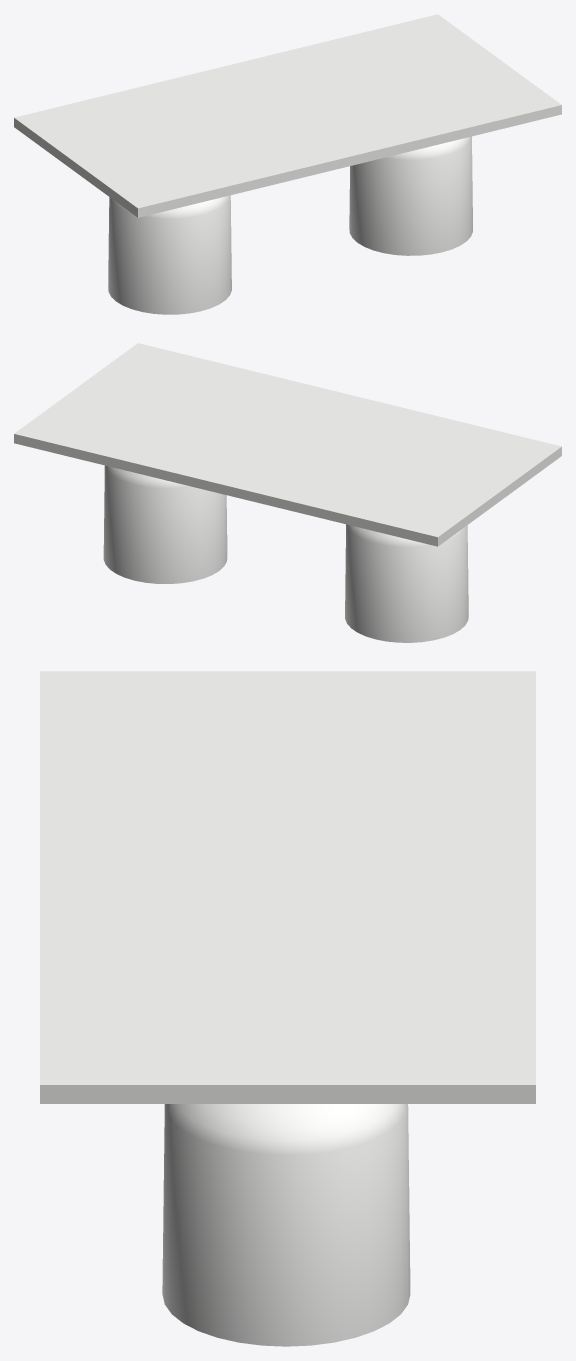
Rendered from purewhite_recta_standard_tornado.glb.
3 views of the same model, one above another, from view 1: azimuth 30°, elevation 25°; view 2: azimuth 150°, elevation 25°; view 3: azimuth 270°, elevation 25° (orthographic). The views are drawn at different scales.
Visible parts, largest first — view 1: standard_recta, tornado; view 2: standard_recta, tornado; view 3: standard_recta, tornado.
Part boxes in pixels (<box>): standard_recta: <box>14,14,561,217</box>; tornado: <box>108,136,472,314</box>; standard_recta: <box>14,343,561,546</box>; tornado: <box>103,465,468,642</box>; standard_recta: <box>40,671,535,1103</box>; tornado: <box>162,1104,410,1346</box>.
Size of the model in its own units: 7.5 by 2.5 by 3.8.
Materials: 1 (1 with a texture image).
